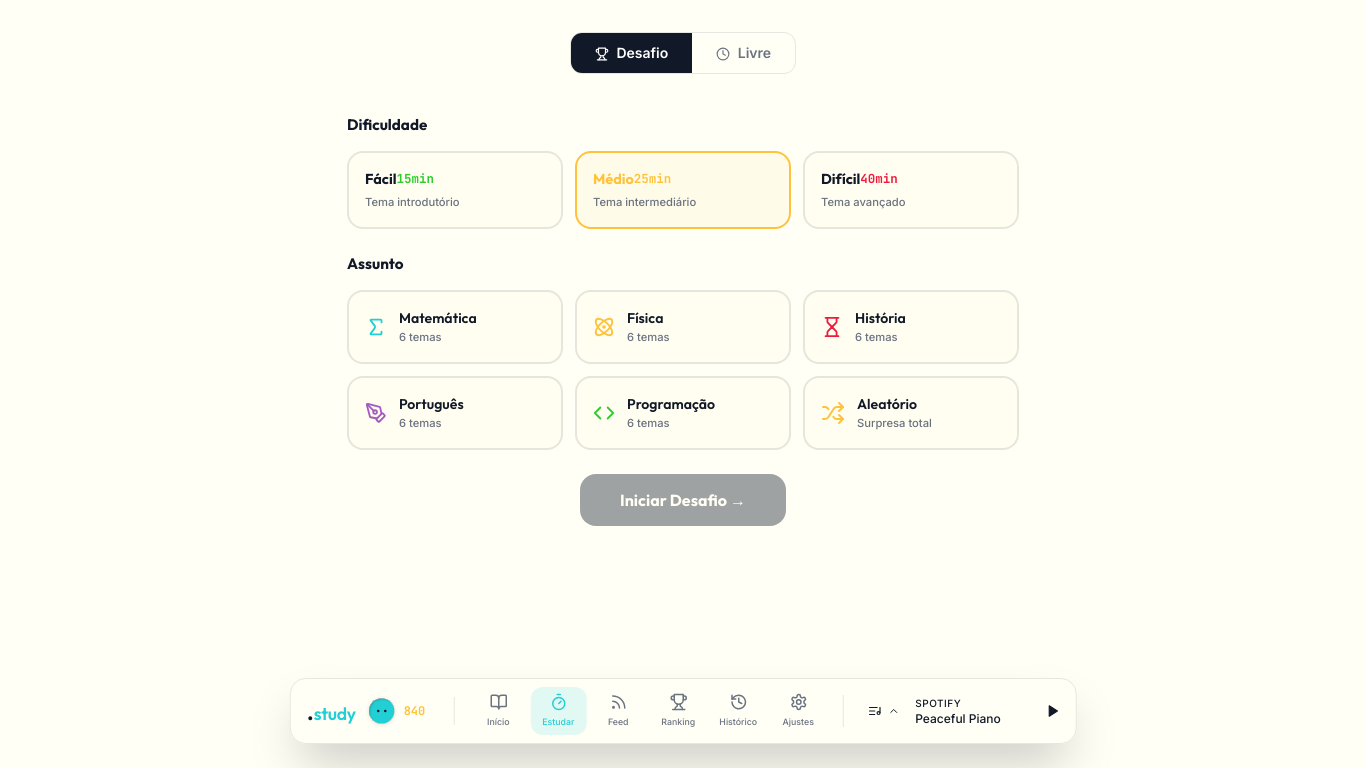
Estudar (desafio) › resetar abandona a sessão em andamento
Click the button "Fácil 15min Tema introdutório" at (455, 190), box top-left (347, 151), bottom-right (563, 229)
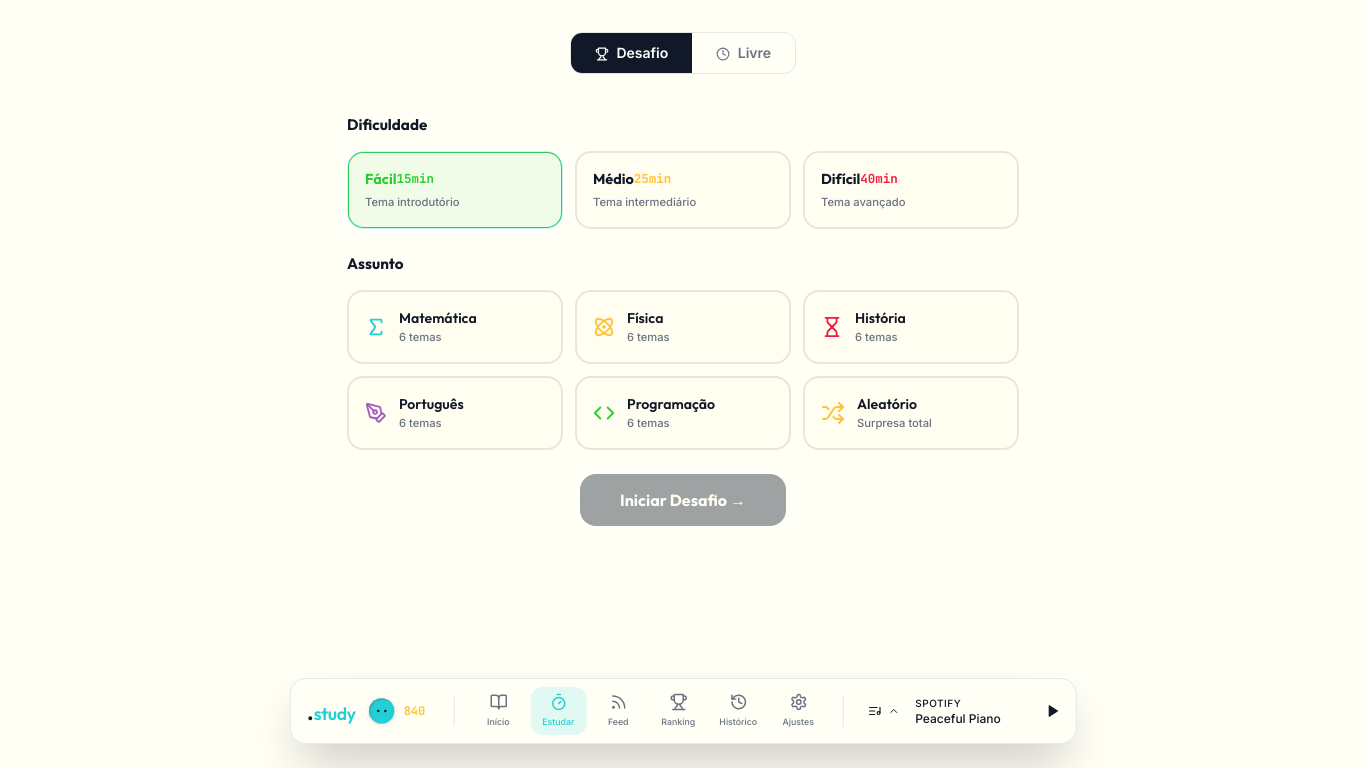
Click the button "Matemática 6 temas" at (455, 327), box top-left (347, 290), bottom-right (563, 364)
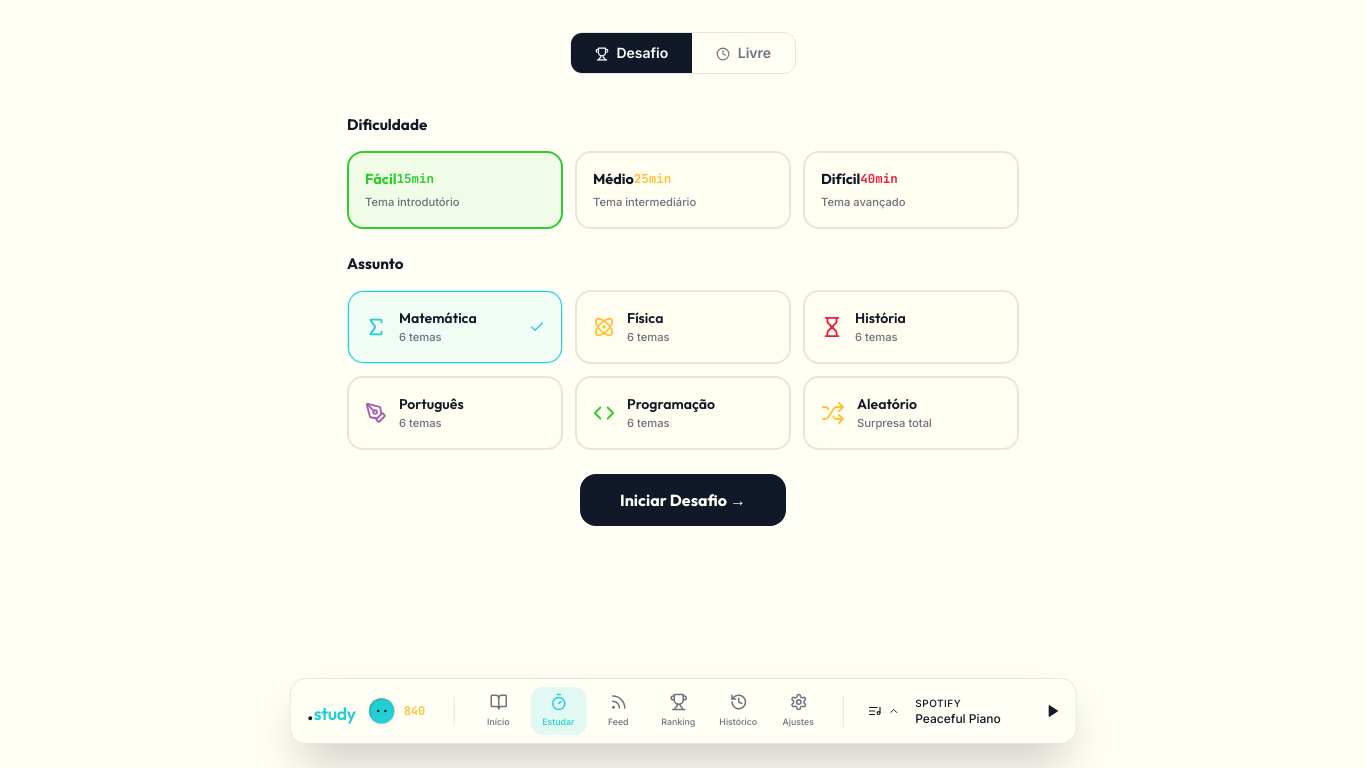
Click the button "Iniciar Desafio →" at (683, 500), box top-left (580, 474), bottom-right (786, 526)
(page scrolled)
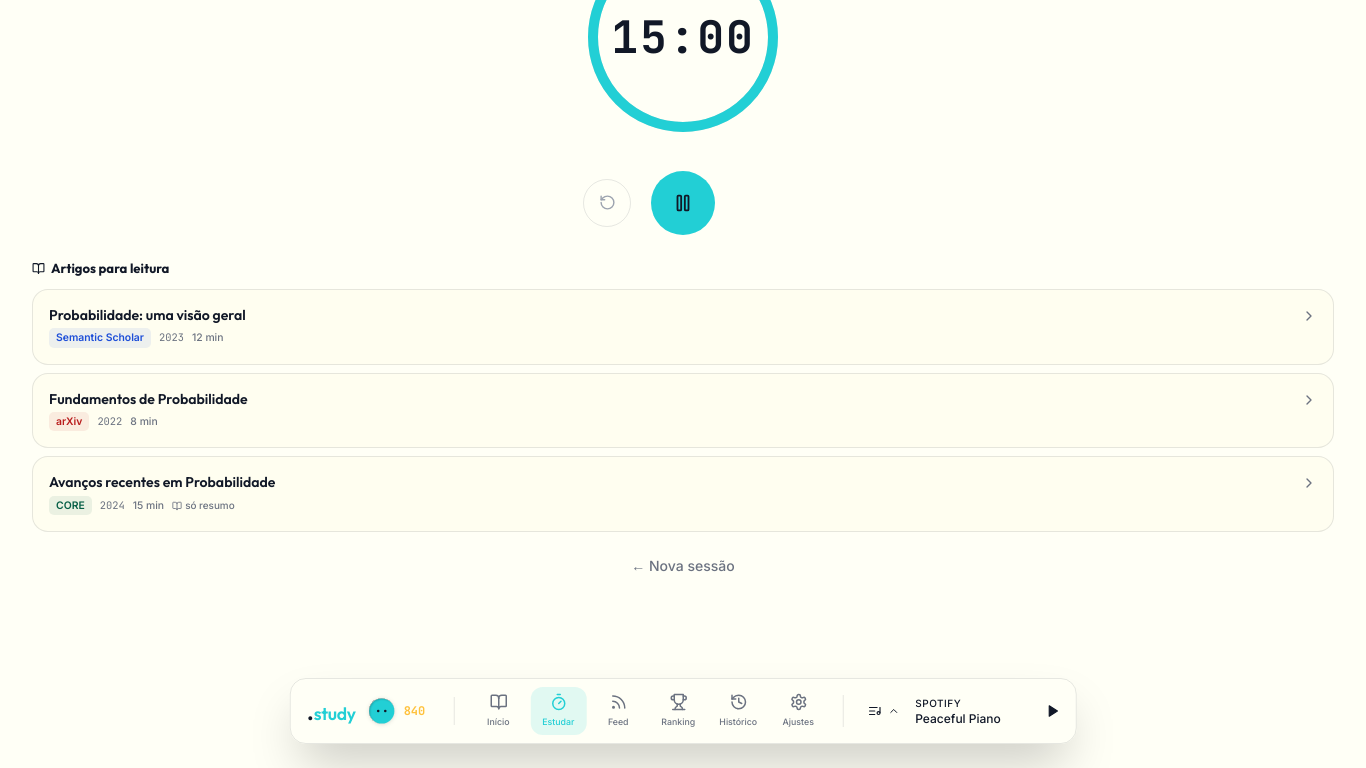
Click the button "← Nova sessão" at (683, 566), box top-left (631, 556), bottom-right (735, 576)
(page scrolled)
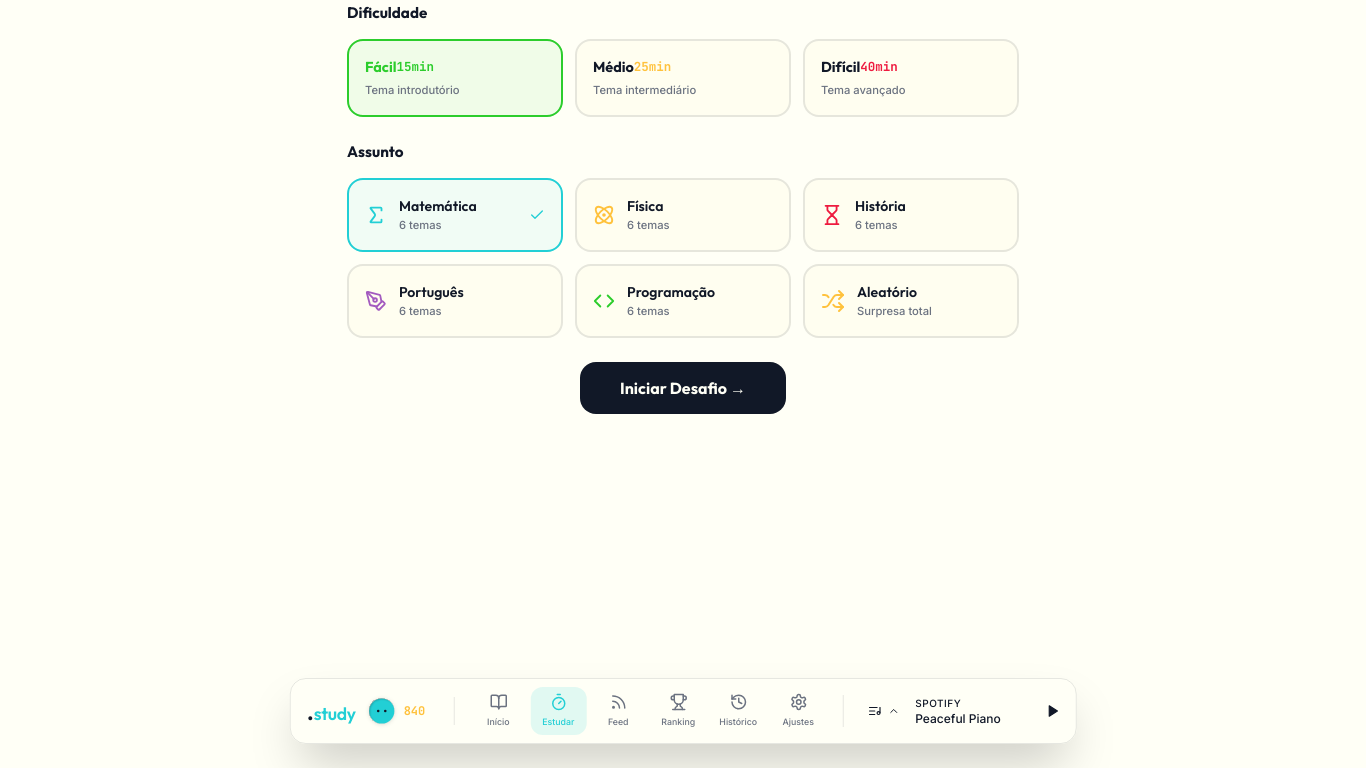
Now the button "Iniciar Desafio →" is shown, box top-left (580, 362), bottom-right (786, 414)
